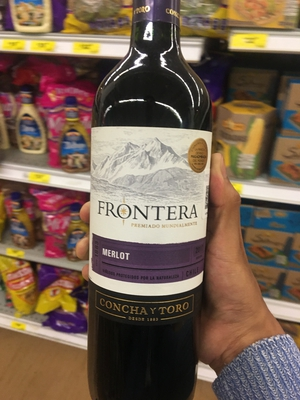frontera merlot: (74, 16, 214, 391)
